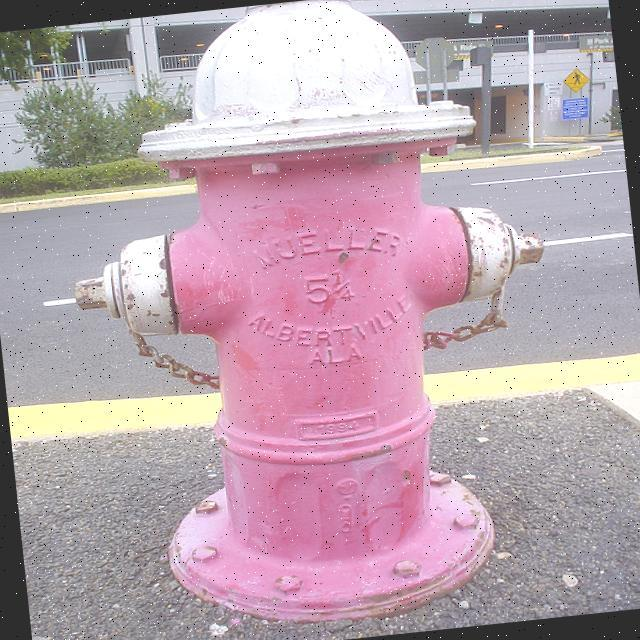fire_hydrant: (14, 0, 574, 638)
